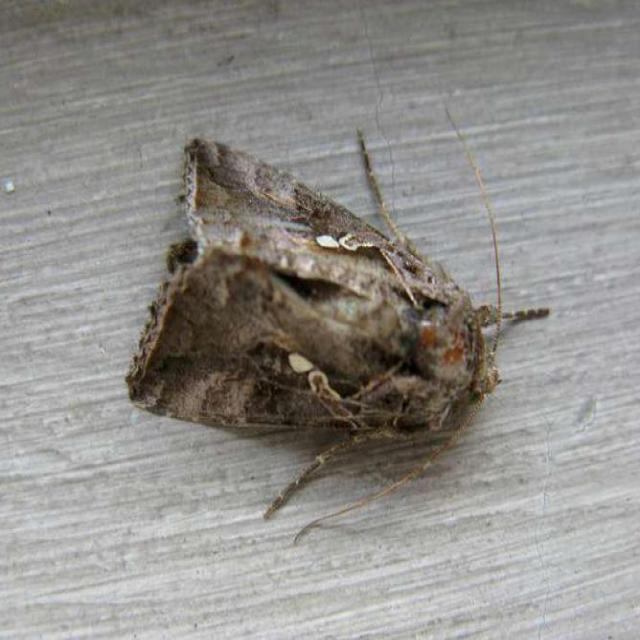armyworm: (161, 149, 497, 458)
